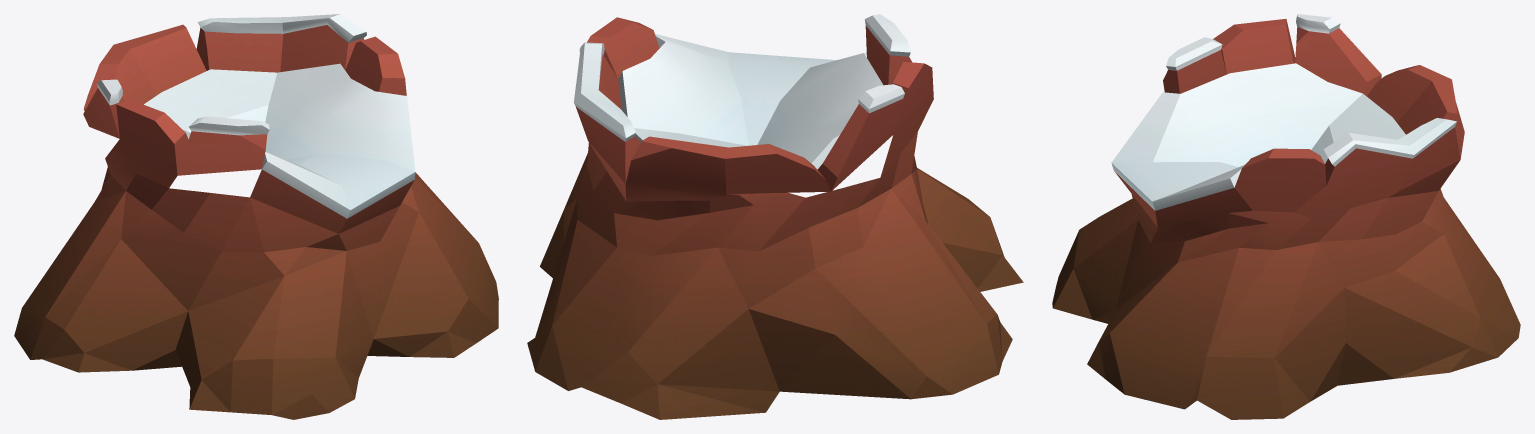
3 renders of one model, left to right at view 1: azimuth 30°, elevation 25°; view 2: azimuth 150°, elevation 25°; view 3: azimuth 270°, elevation 25°, orthographic. The views are drawn at different scales.
Parts seen in each view (by area): view 1: SnowyTreeStump; view 2: SnowyTreeStump; view 3: SnowyTreeStump.
Boxes of the visible parts, x1,y1,x2,y2 form: SnowyTreeStump: (14,14,498,419); SnowyTreeStump: (527,14,1023,419); SnowyTreeStump: (1052,14,1520,419).
Bounding box in the file's own units: 133 × 80 × 131.
Materials: 1 (1 with a texture image).
